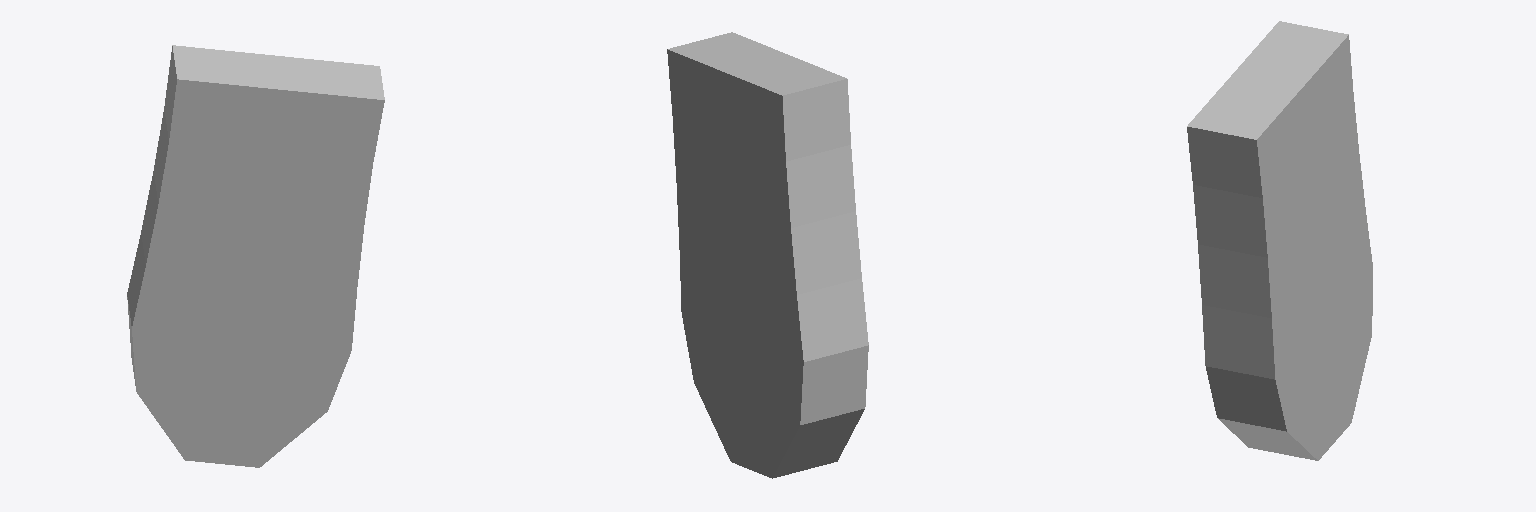
The model's file is bag_low.obj.
3 views of the same model, side by side, from view 1: azimuth 30°, elevation 25°; view 2: azimuth 150°, elevation 25°; view 3: azimuth 270°, elevation 25° (orthographic).
Visible parts, largest first — view 1: polySurface466 polySurface462; view 2: polySurface466 polySurface462; view 3: polySurface466 polySurface462.
Boxes of the visible parts, x1,y1,x2,y2 form: polySurface466 polySurface462: [127, 45, 384, 467]; polySurface466 polySurface462: [667, 32, 868, 478]; polySurface466 polySurface462: [1187, 21, 1372, 460].
Size of the model in its own units: 8.15 by 13.67 by 5.85.